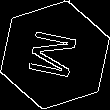M_E: (25, 27, 85, 83)
